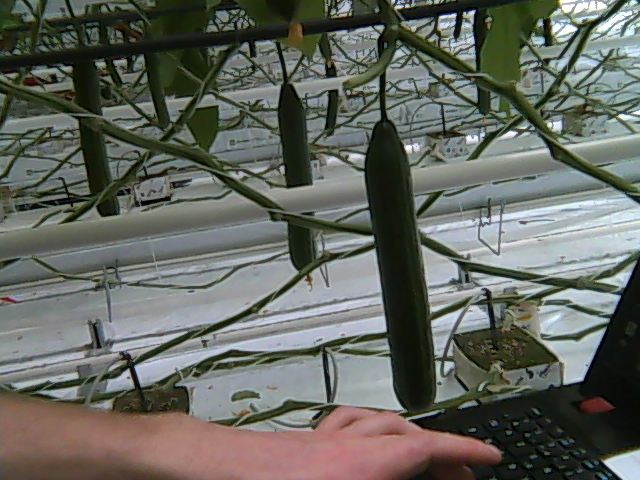concombre: (359, 108, 441, 417)
